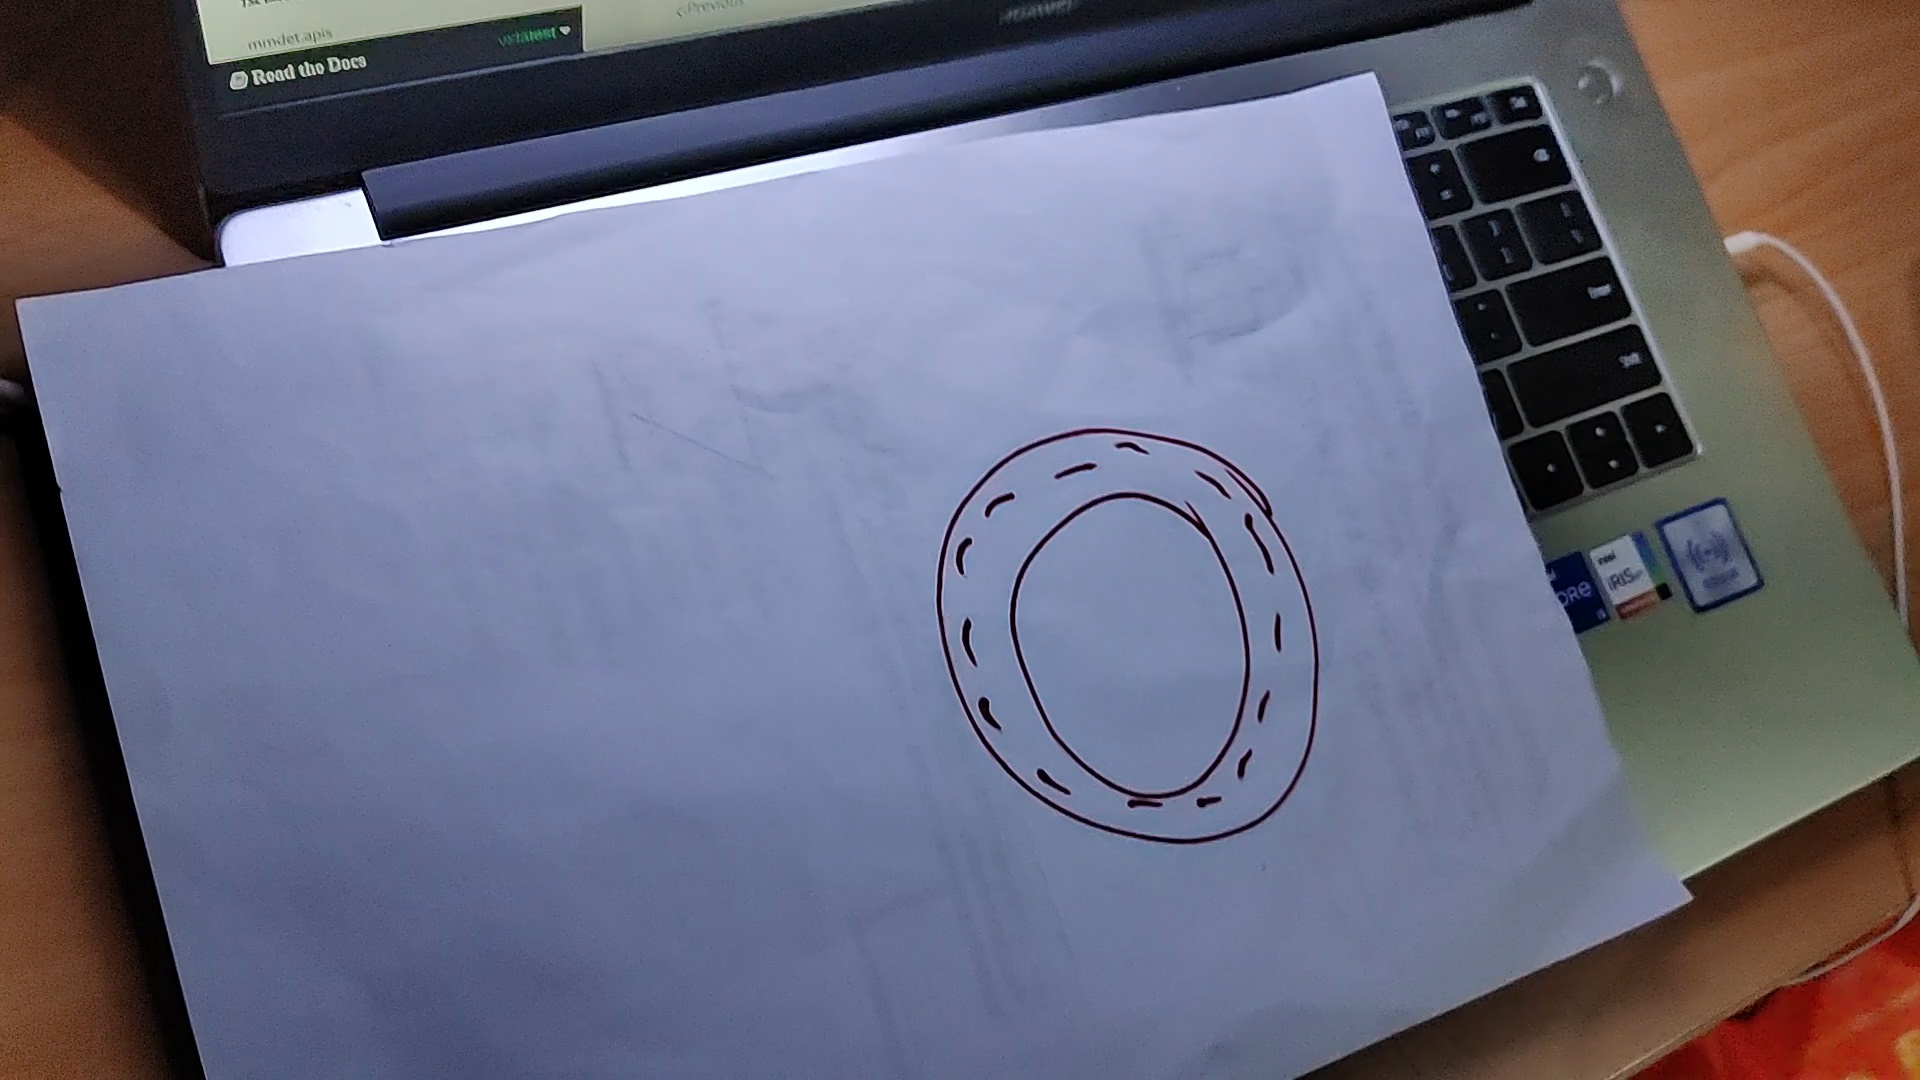circle: (936, 425, 1317, 844)
